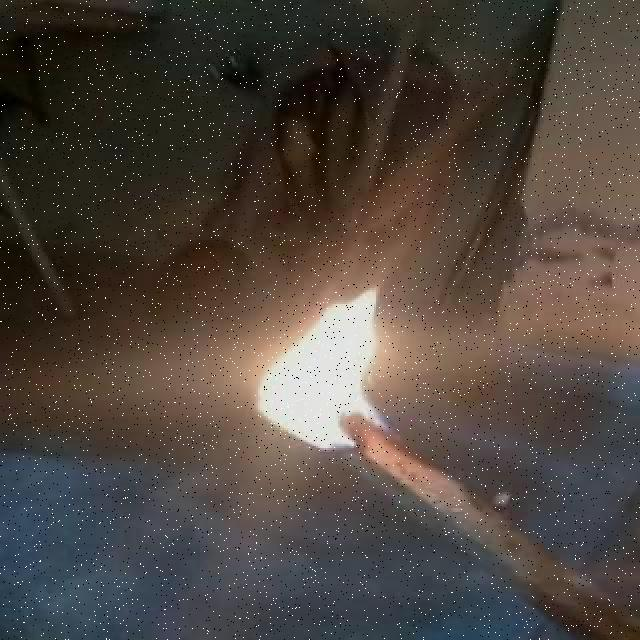Fire: (234, 274, 410, 460)
